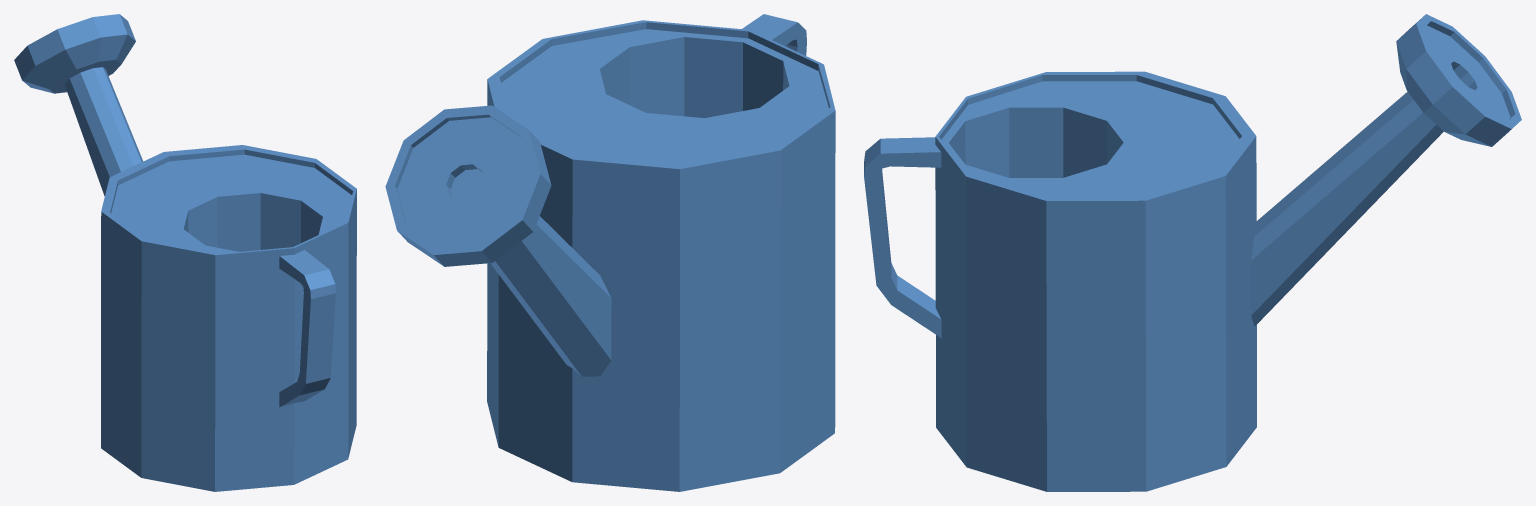
File: ewer.fbx
3 renders of one model, left to right at view 1: azimuth 30°, elevation 25°; view 2: azimuth 150°, elevation 25°; view 3: azimuth 270°, elevation 25°, orthographic. The views are drawn at different scales.
Visible parts, largest first — view 1: Body, Throat; view 2: Body, Throat; view 3: Body, Throat.
Part boxes in pixels (box(x1,y1,x2,y2)): Body: box(101, 145, 356, 491); Throat: box(14, 14, 143, 196); Body: box(487, 14, 835, 491); Throat: box(385, 105, 611, 376); Body: box(864, 71, 1256, 491); Throat: box(1251, 14, 1521, 326).
Bounding box in the file's own units: 0.9564 × 1.38 × 2.06.
